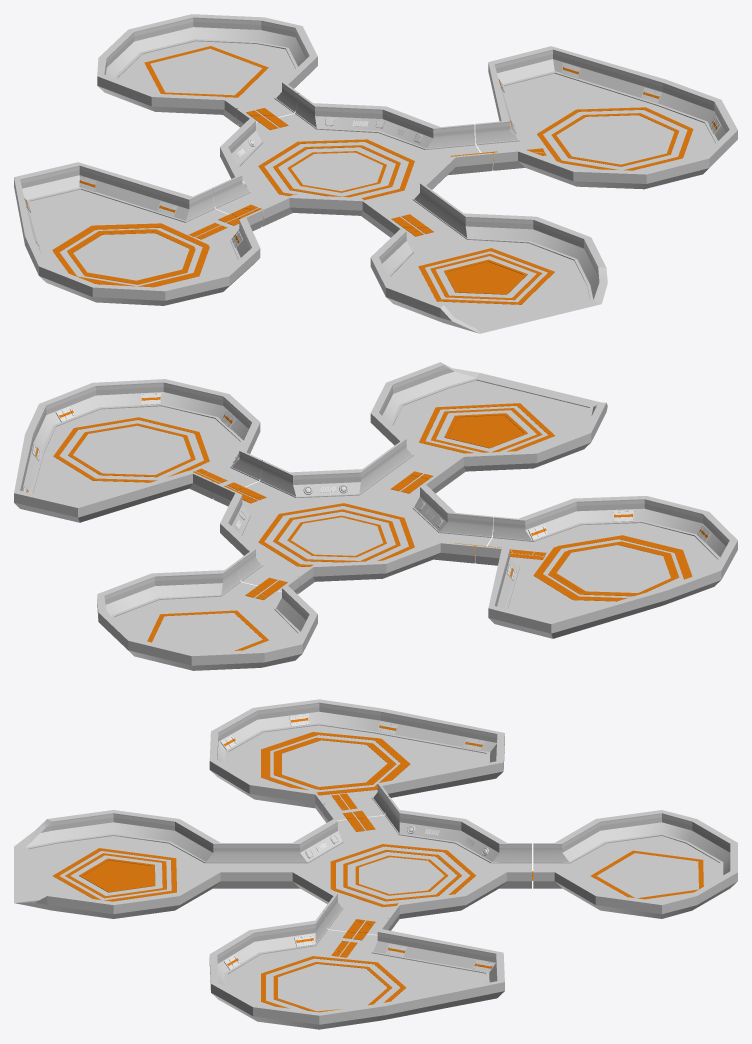
Rendered from uzaysons.fbx.
The picture shows the model from 3 angles, top to bottom: view 1: azimuth 30°, elevation 25°; view 2: azimuth 150°, elevation 25°; view 3: azimuth 270°, elevation 25°; orthographic projection. The views are drawn at different scales.
Visible parts, largest first — view 1: Circle.024, Circle.021, Circle.040, Circle.041, Plane.013, Circle.026, Circle.022, Circle.018, Circle.015, Circle.017, Circle.023, Circle.027 (+1 smaller); view 2: Circle.024, Circle.021, Circle.040, Circle.041, Plane.013, Circle.018, Circle.026, Circle.022, Circle.017, Circle.023, Circle.027, Circle.015 (+2 smaller); view 3: Circle.024, Circle.021, Circle.040, Circle.041, Plane.013, Circle.022, Circle.026, Circle.018, Circle.015, Circle.017, Circle.023, Circle.027 (+1 smaller).
Boxes of the visible parts, box(x1,y1,x2,y2) form: Circle.024: box(14, 46, 737, 305); Circle.021: box(212, 93, 607, 333); Circle.040: box(97, 14, 317, 125); Circle.041: box(444, 259, 527, 294); Plane.013: box(24, 63, 720, 253); Circle.026: box(418, 248, 554, 304); Circle.022: box(52, 223, 208, 286); Circle.018: box(258, 139, 414, 200); Circle.015: box(144, 46, 268, 97); Circle.017: box(273, 145, 400, 197); Circle.023: box(67, 229, 194, 282); Circle.027: box(430, 253, 542, 300); Circle.024: box(14, 379, 737, 638); Circle.021: box(212, 362, 607, 594); Circle.040: box(97, 562, 317, 670); Circle.041: box(444, 413, 527, 448); Plane.013: box(23, 392, 711, 606); Circle.018: box(258, 503, 414, 566); Circle.026: box(419, 403, 555, 453); Circle.022: box(533, 536, 688, 601); Circle.017: box(273, 509, 400, 562); Circle.023: box(548, 542, 675, 596); Circle.027: box(431, 408, 542, 452); Circle.015: box(147, 610, 268, 650); Circle.024: box(209, 699, 504, 1029); Circle.021: box(14, 797, 531, 934); Circle.040: box(533, 810, 737, 918); Circle.041: box(79, 858, 155, 892); Plane.013: box(220, 713, 495, 972); Circle.022: box(265, 732, 410, 795); Circle.026: box(52, 848, 176, 901); Circle.018: box(330, 844, 475, 906); Circle.015: box(590, 850, 703, 899); Circle.017: box(343, 849, 461, 901); Circle.023: box(278, 738, 396, 789); Circle.027: box(65, 853, 166, 898).
Bounding box in the file's own units: 664 × 18.51 × 642.
